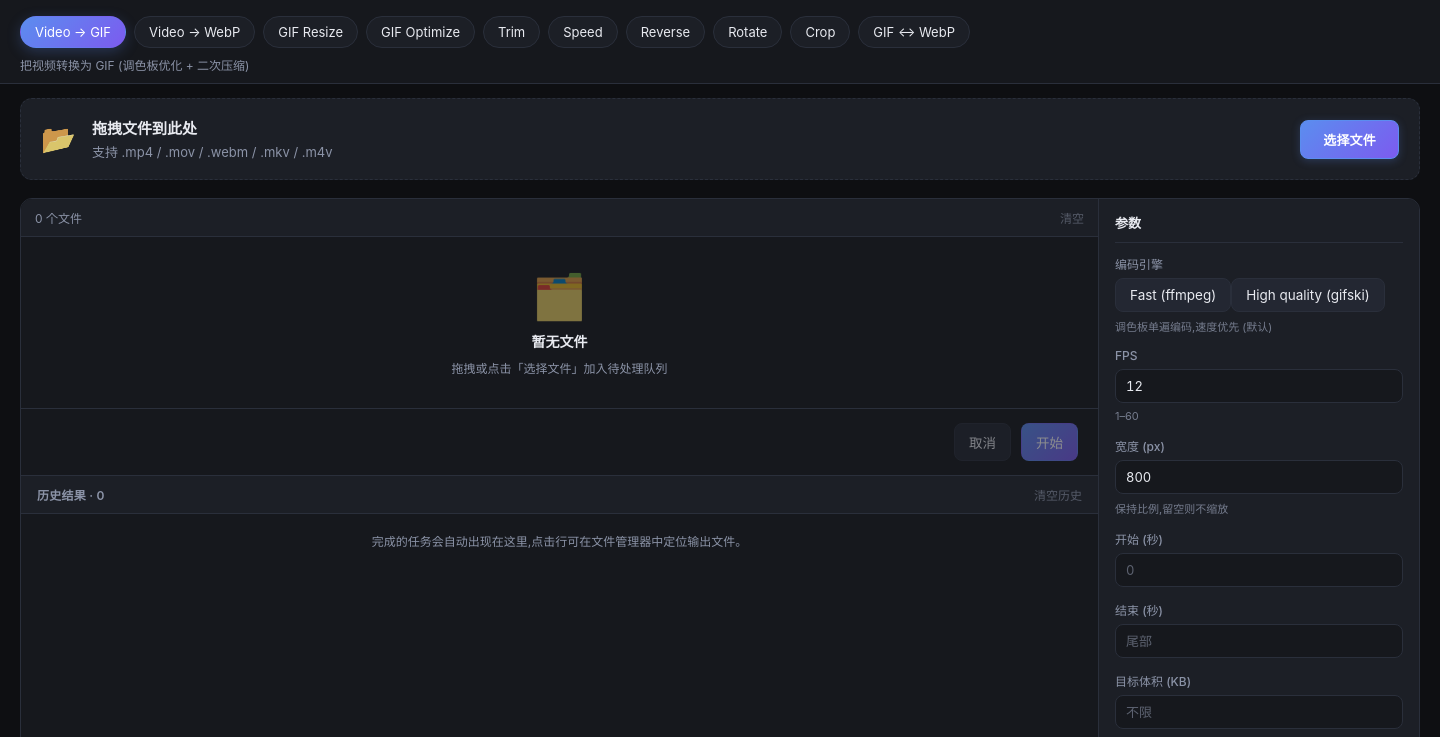
Test case: ToolboxPanel › surfaces an inline error notice when toolboxPickFiles rejects
Click the button "选择文件".
click(1350, 139)  # box 1300,120 -> 1399,158
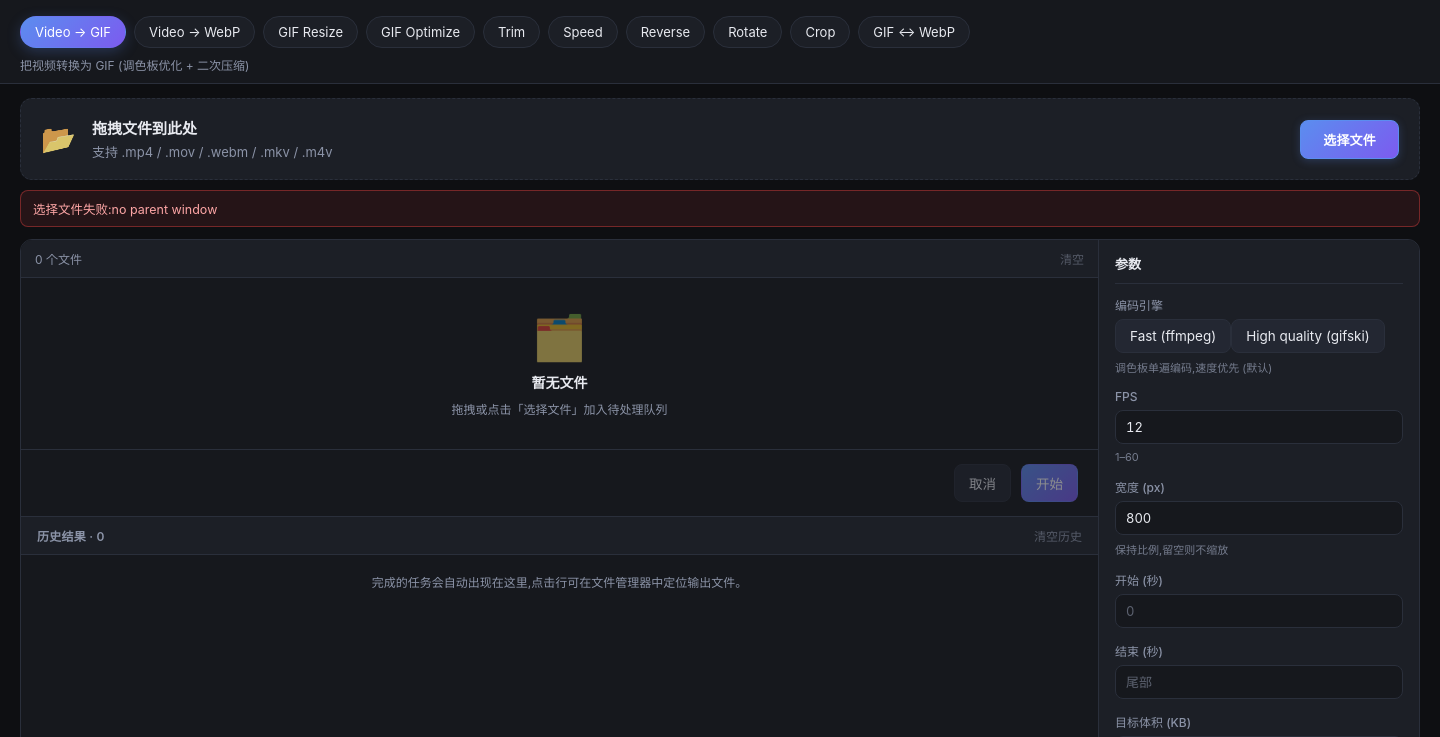
Expected: the message shows "no parent window", 33,202 -> 217,217
